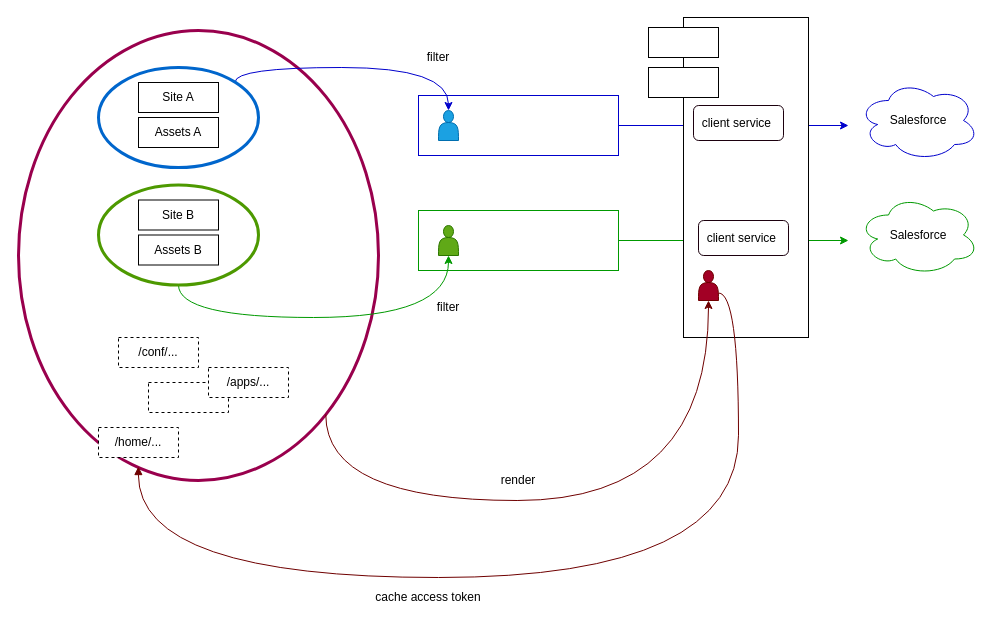
The diagram is 996 pixels wide and 625 high, and some of its shapes have lost their labels. The box of each missing label's shape, as (x1, y1, x2, y2) in pixels:
Demandware Connector: (682, 16, 808, 338)
Replication Agent Site A: (418, 94, 618, 156)
Replication Agent Site B: (418, 210, 618, 270)
